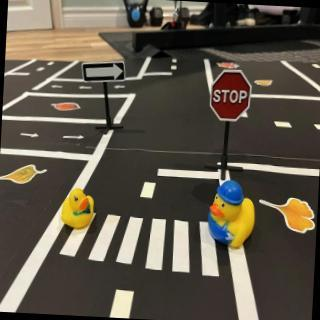duck_regular: (61, 188, 98, 234)
duck_specialty: (207, 180, 259, 251)
road_crosswalk: (56, 211, 224, 280)
road_oneway: (61, 133, 87, 145), (19, 132, 43, 142), (78, 84, 94, 93), (51, 83, 65, 92), (112, 84, 128, 91)
sign_oneway_right: (82, 60, 128, 86)
sign_stop: (211, 72, 252, 123)
